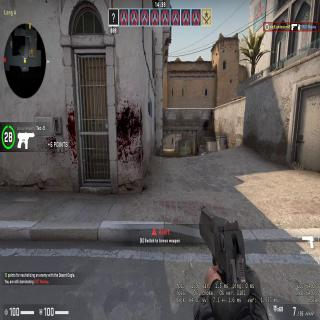CT-Body: (172, 137, 174, 145)
CT-Head: (172, 138, 173, 138)
